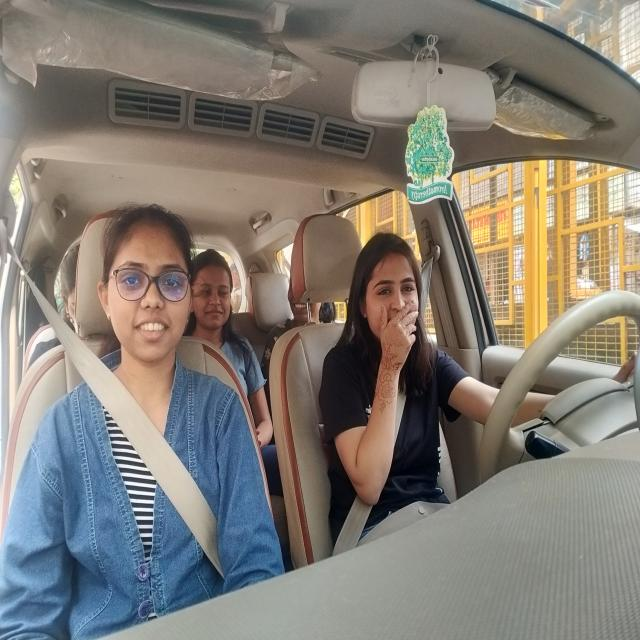drowsy: (354, 227, 430, 347)
person: (102, 203, 194, 364), (190, 245, 237, 331), (55, 242, 77, 329)
